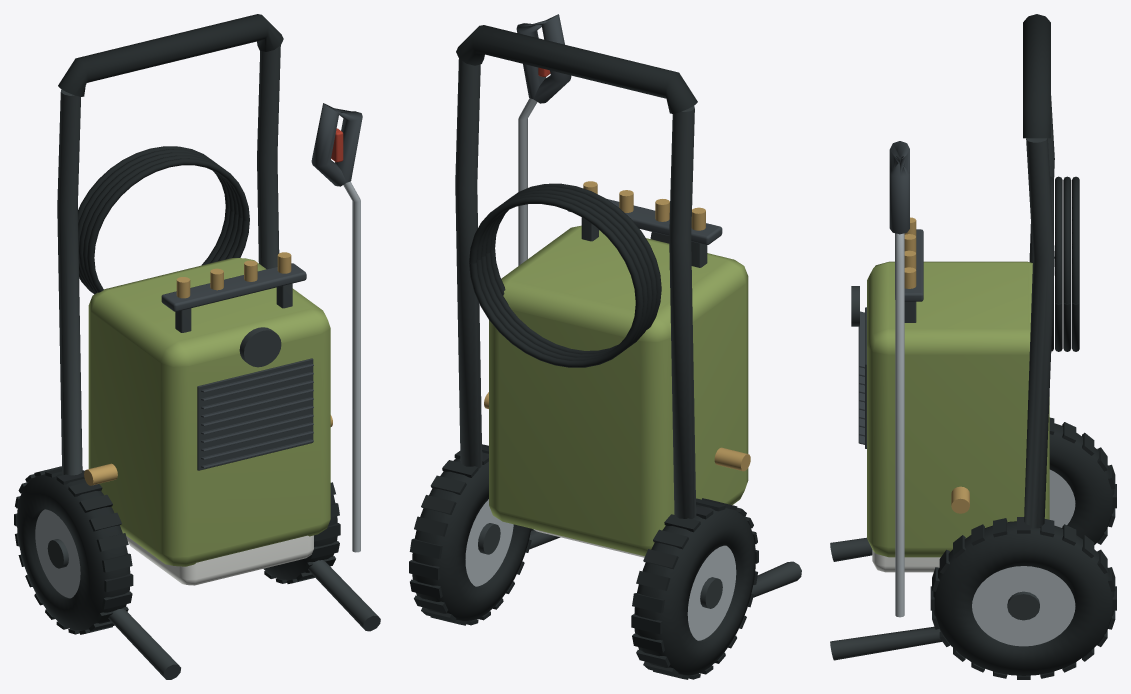
The model's file is garage-pressure-washer.glb.
3 renders of one model, left to right at view 1: azimuth 30°, elevation 25°; view 2: azimuth 150°, elevation 25°; view 3: azimuth 270°, elevation 25°, orthographic. The views are drawn at different scales.
Parts seen in each view (by area): view 1: catalog_surface_RealismUV; view 2: catalog_surface_RealismUV; view 3: catalog_surface_RealismUV.
Part boxes in pixels (box(x1,y1,x2,y2)): catalog_surface_RealismUV: box(14, 14, 380, 679); catalog_surface_RealismUV: box(409, 14, 801, 679); catalog_surface_RealismUV: box(830, 14, 1116, 679).
Size of the model in its own units: 0.42 by 0.91 by 0.42.
